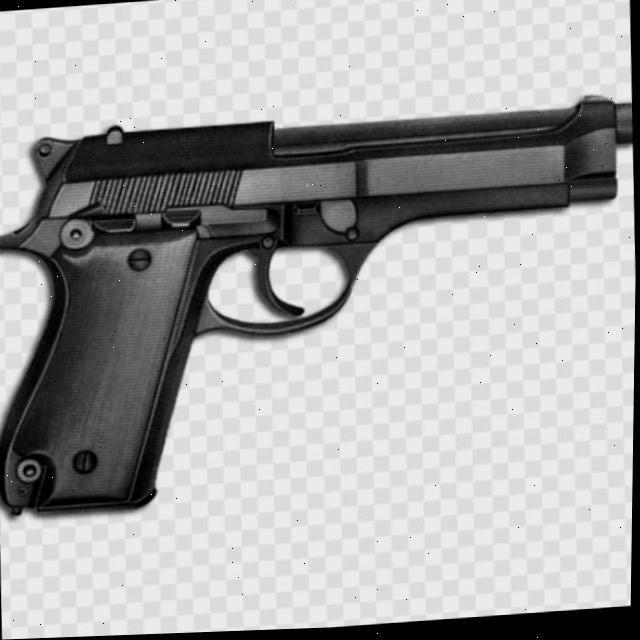gun: (0, 98, 639, 519)
